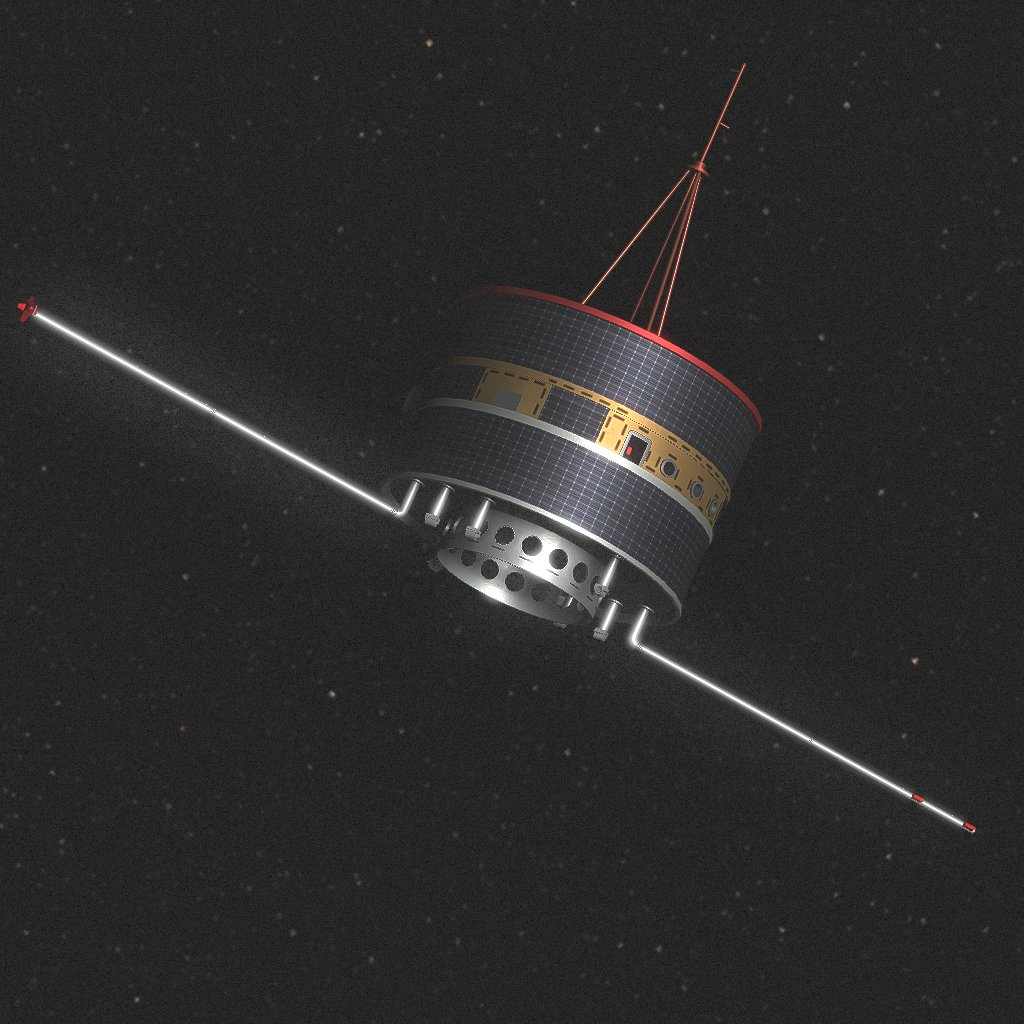double_star: (17, 63, 975, 834)
